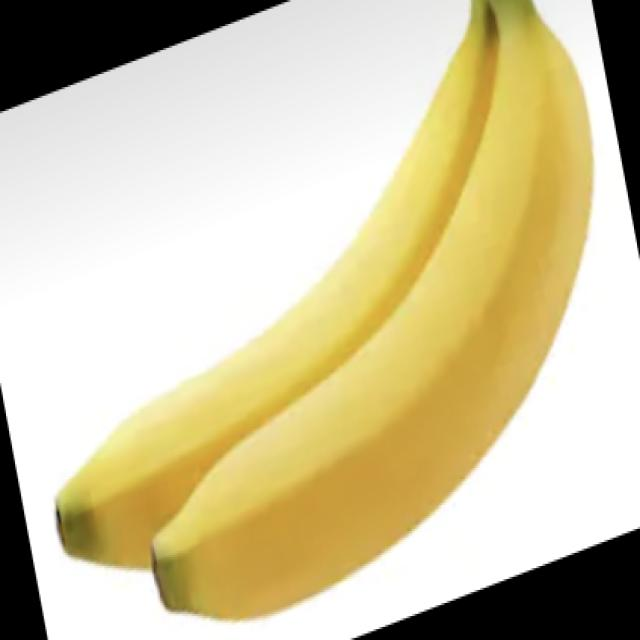god quality banana: (56, 2, 595, 619)
